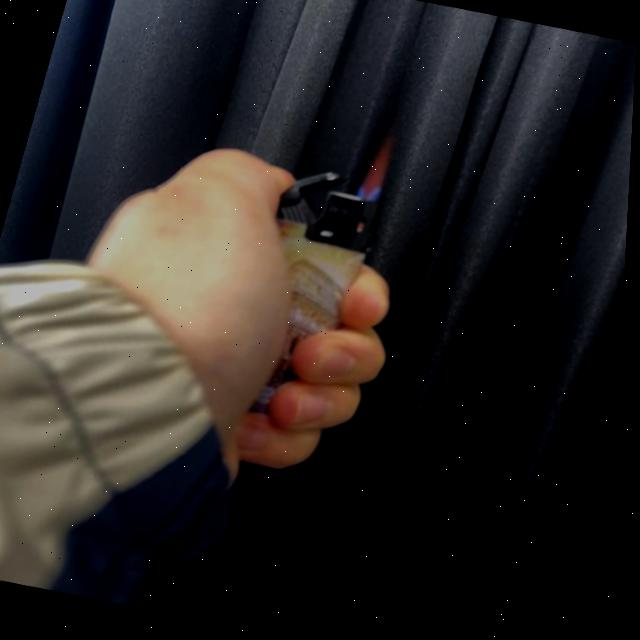Fire: (355, 131, 397, 207)
